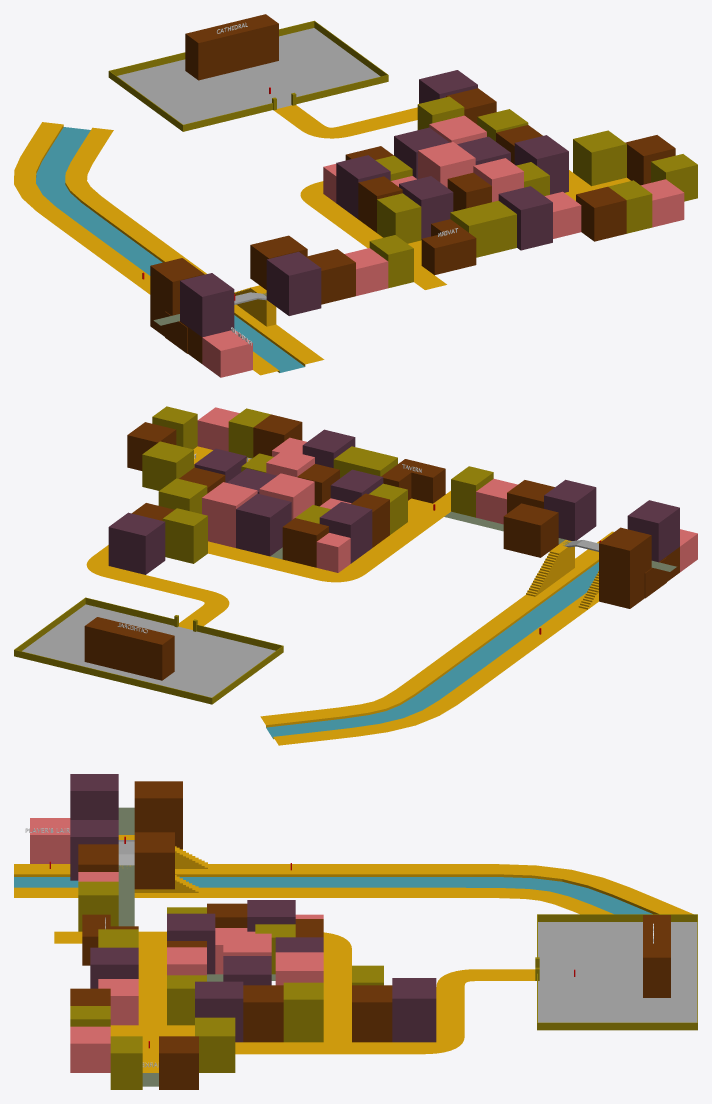
The model's file is Layout.fbx.
3 views of the same model, one above another, from view 1: azimuth 30°, elevation 25°; view 2: azimuth 150°, elevation 25°; view 3: azimuth 270°, elevation 25° (orthographic). The views are drawn at different scales.
Visible parts, largest first — view 1: pPlane1, house40, house06, house04, house21, house24, house13, house20, house18, house76, house26, house30 (+39 smaller); view 2: pPlane1, house40, house72, house73, house16, house07, house06, house04, house71, house70, house13, house32 (+47 smaller); view 3: pPlane1, house72, house07, house38, house37, house69, house16, house40, house04, house28, house24, street_long72 (+54 smaller).
Part boxes in pixels (box(x1,y1,x2,y2)): pPlane1: box(117, 28, 380, 124); house40: box(185, 14, 278, 80); house06: box(266, 251, 321, 315); house04: box(180, 273, 234, 337); house21: box(450, 200, 516, 257); house24: box(573, 130, 626, 186); house13: box(421, 219, 476, 275); house20: box(498, 186, 552, 250); house18: box(576, 186, 626, 241); house76: box(202, 330, 252, 377); house26: box(514, 135, 568, 194); house30: box(377, 193, 421, 243); pPlane1: box(22, 604, 275, 697); house40: box(84, 617, 174, 680); house72: box(108, 512, 165, 574); house73: box(236, 493, 291, 556); house16: box(503, 503, 558, 557); house07: box(599, 527, 651, 582); house06: box(544, 479, 596, 540); house04: box(627, 500, 679, 562); house71: box(202, 482, 257, 547); house70: box(162, 508, 207, 563); house13: box(381, 459, 445, 503); house32: box(319, 502, 372, 563); pPlane1: box(538, 922, 697, 1022); house72: box(392, 978, 436, 1042); house07: box(134, 781, 182, 834); house38: box(283, 982, 323, 1042); house37: box(243, 985, 283, 1042); house69: box(352, 985, 392, 1042); house16: box(134, 832, 174, 889); house40: box(643, 915, 670, 997); house04: box(70, 774, 118, 819); house28: box(159, 1036, 198, 1089); house24: box(195, 1017, 235, 1072); street_long72: box(364, 1011, 464, 1054).
Bounding box in the file's own units: 166 × 21.73 × 170.
